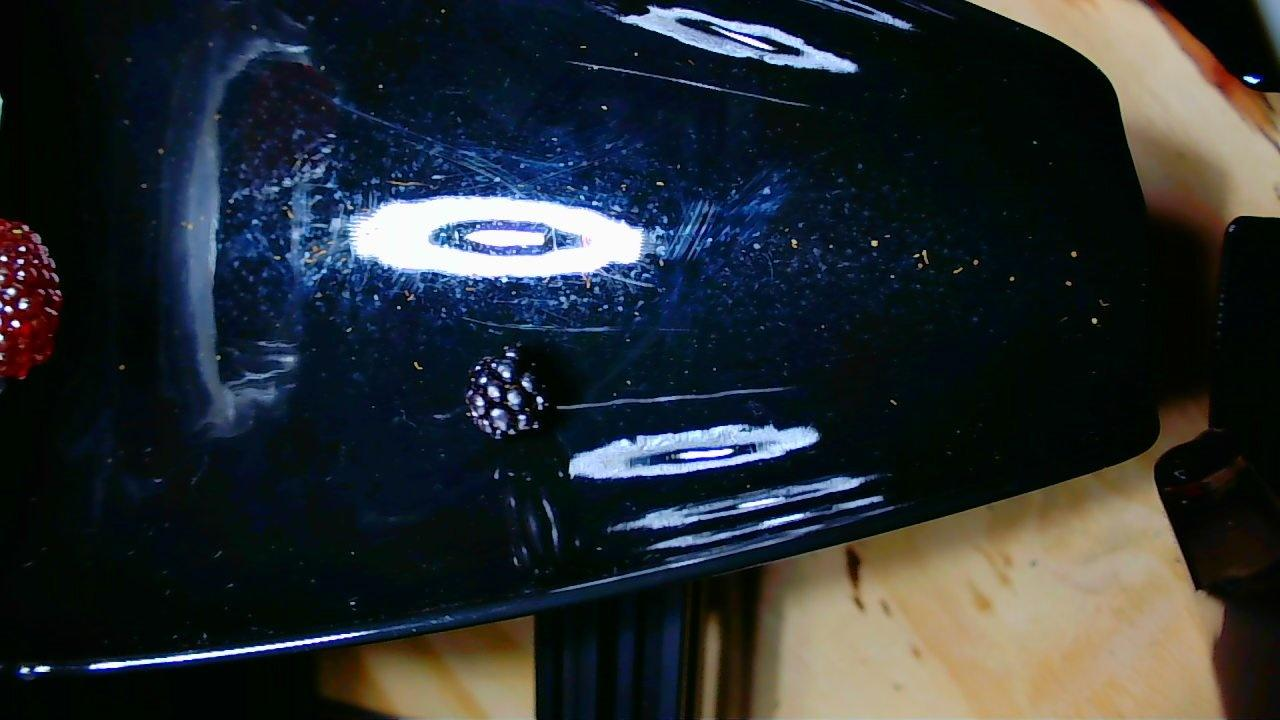berry: (0, 219, 62, 378), (467, 346, 548, 438)
